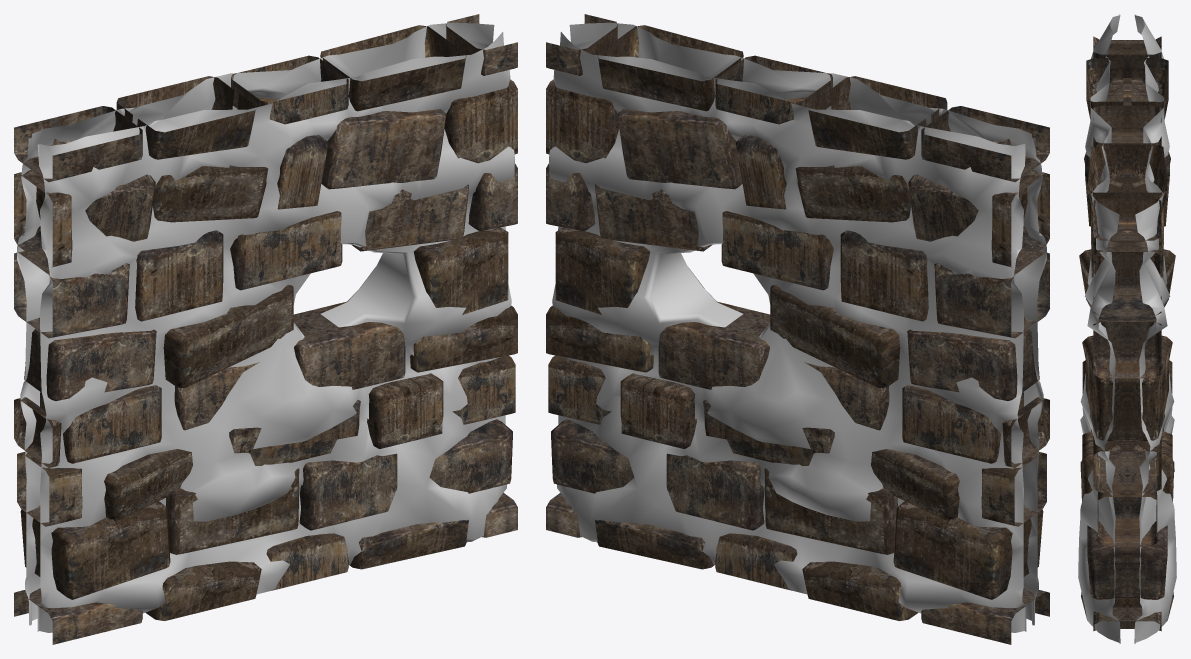
The model's file is wall_taureg_broken_peekhole.dae.
The picture shows the model from 3 angles, left to right: view 1: azimuth 30°, elevation 25°; view 2: azimuth 150°, elevation 25°; view 3: azimuth 270°, elevation 25°; orthographic projection. The views are drawn at different scales.
Parts seen in each view (by area): view 1: LO_, dirt; view 2: LO_, dirt; view 3: LO_, dirt.
Part boxes in pixels (box(x1,y1,x2,y2)): LO_: box(14, 14, 517, 644); dirt: box(17, 22, 514, 632); LO_: box(546, 14, 1049, 644); dirt: box(549, 22, 1046, 632); LO_: box(1079, 36, 1175, 631); dirt: box(1078, 14, 1176, 643).
Bounding box in the file's own units: 4 × 4.02 × 0.8322.
